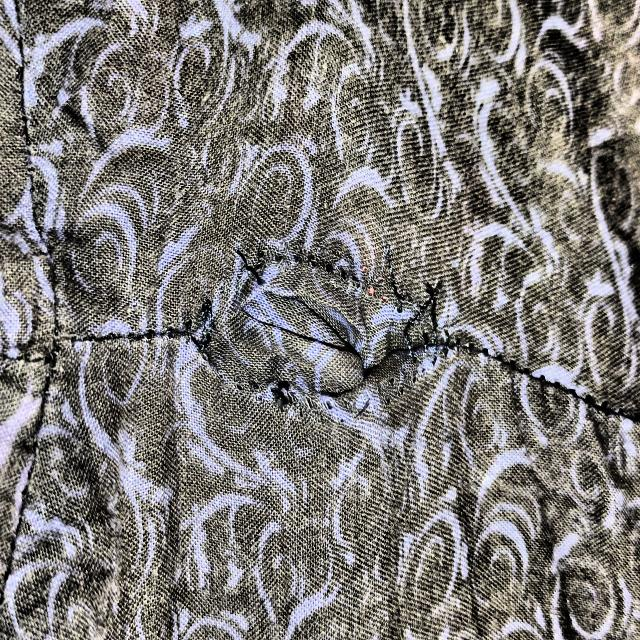seam: (182, 221, 460, 454)
